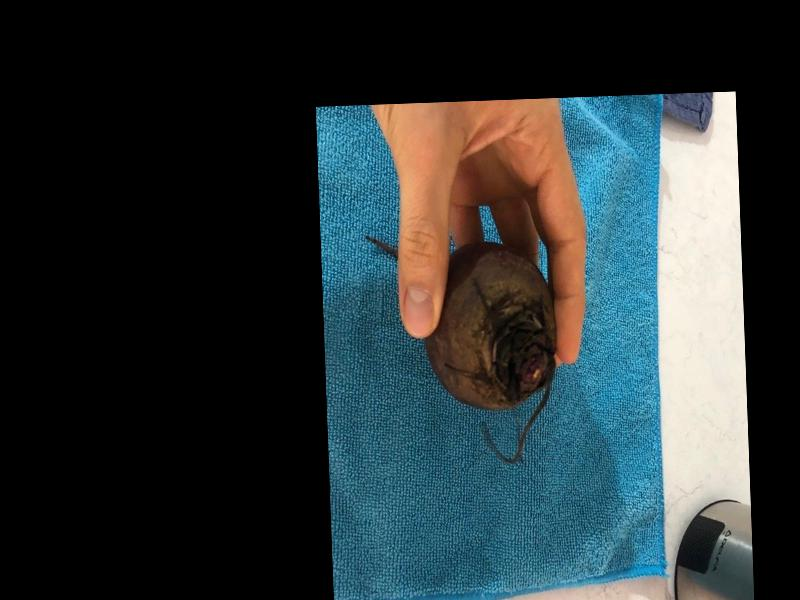Beet: (366, 229, 559, 466)
